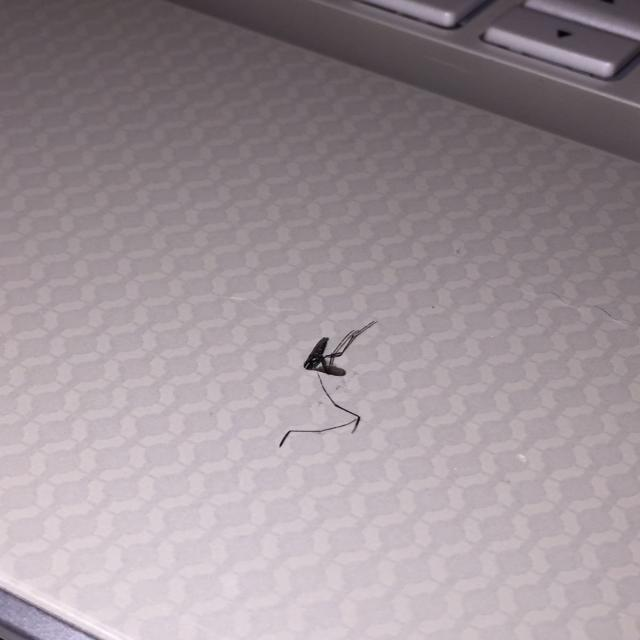albopictus: (274, 318, 383, 451)
